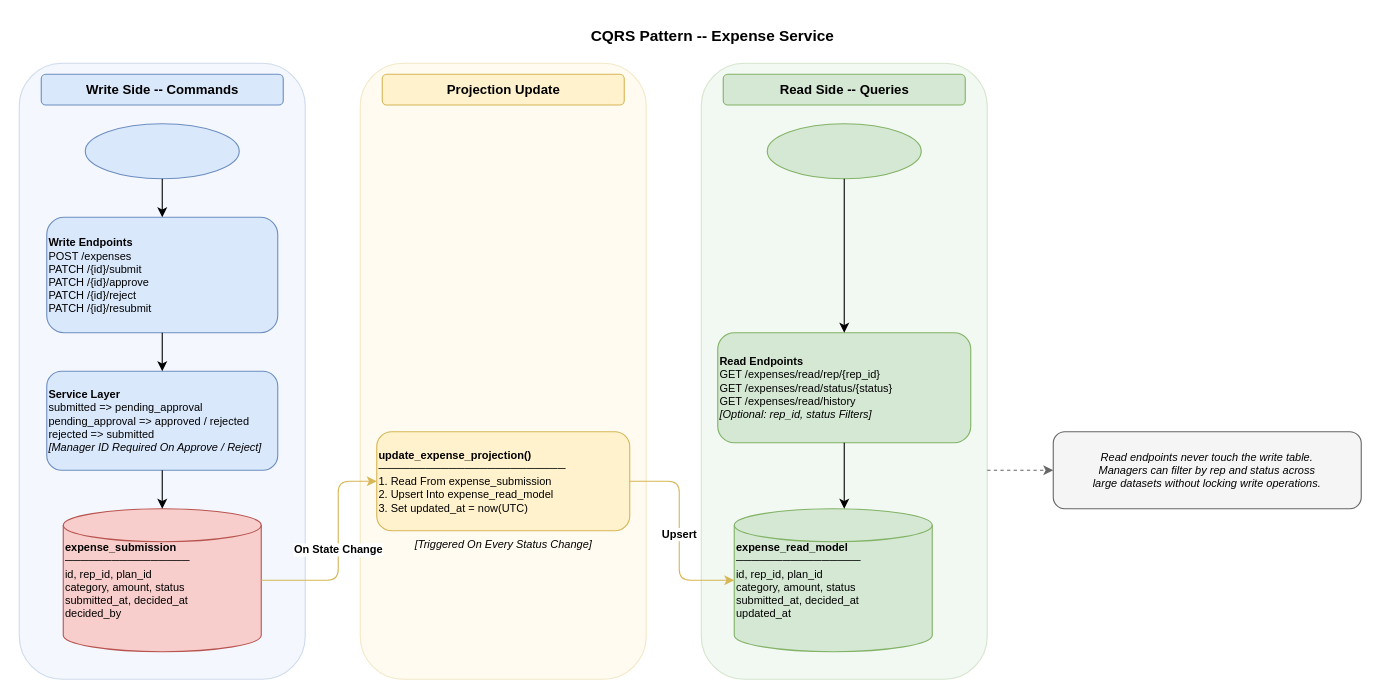
This 1381x699 diagram has some shape labels left out. The shapes that lost their labels are listed below. From the top down, each one's box as (x1, y1, x2, y2) in pixels, then its label:
(84, 123, 239, 179): Manager / Rep
(766, 123, 921, 179): Manager
